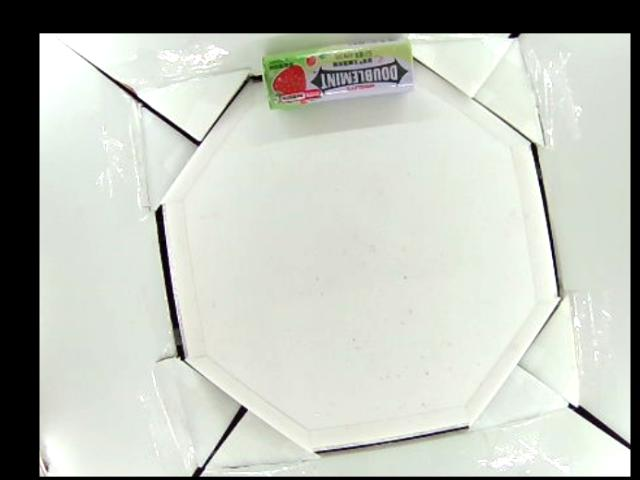Bottle: (263, 37, 414, 110)
